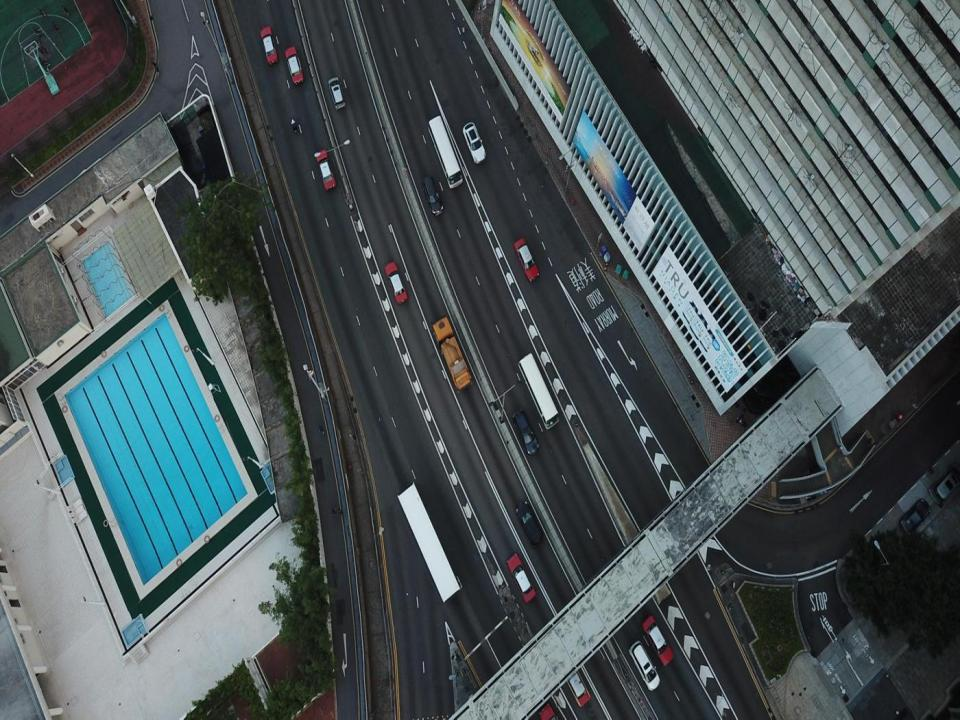bus: (396, 481, 463, 604), (518, 352, 559, 430), (427, 115, 464, 189)
car: (642, 615, 674, 666), (628, 640, 659, 692), (507, 554, 537, 605), (515, 501, 544, 546), (929, 464, 959, 506), (512, 409, 539, 454), (559, 667, 590, 706), (900, 498, 930, 534), (514, 238, 539, 280), (462, 121, 486, 164), (384, 262, 408, 304), (422, 175, 443, 215), (315, 150, 336, 190), (284, 47, 304, 84), (260, 26, 278, 65), (328, 76, 346, 110)
truck: (432, 314, 473, 394)
